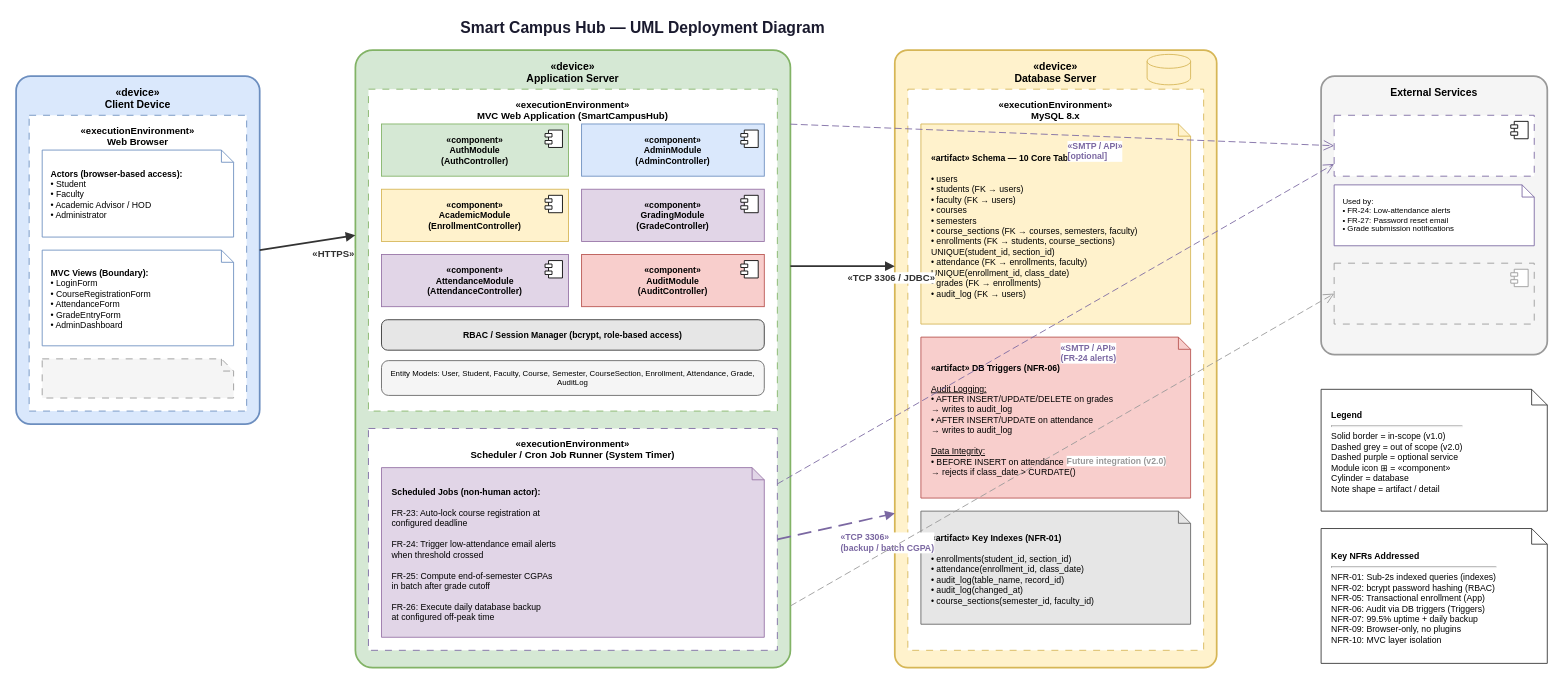
Image size: 1563x683. Some labels were removed from this diagram. The centre of each missing label's shape, as x and y in pixels:
MySQL: point 1168,69
«component» [optional] Notification / Email Service (SMTP Relay / API): point 1433,145
«component» FinanceModule (OUT OF SCOPE — v2.0): point 1433,293
• Finance Officer (OUT OF SCOPE — v2.0): point 137,378
